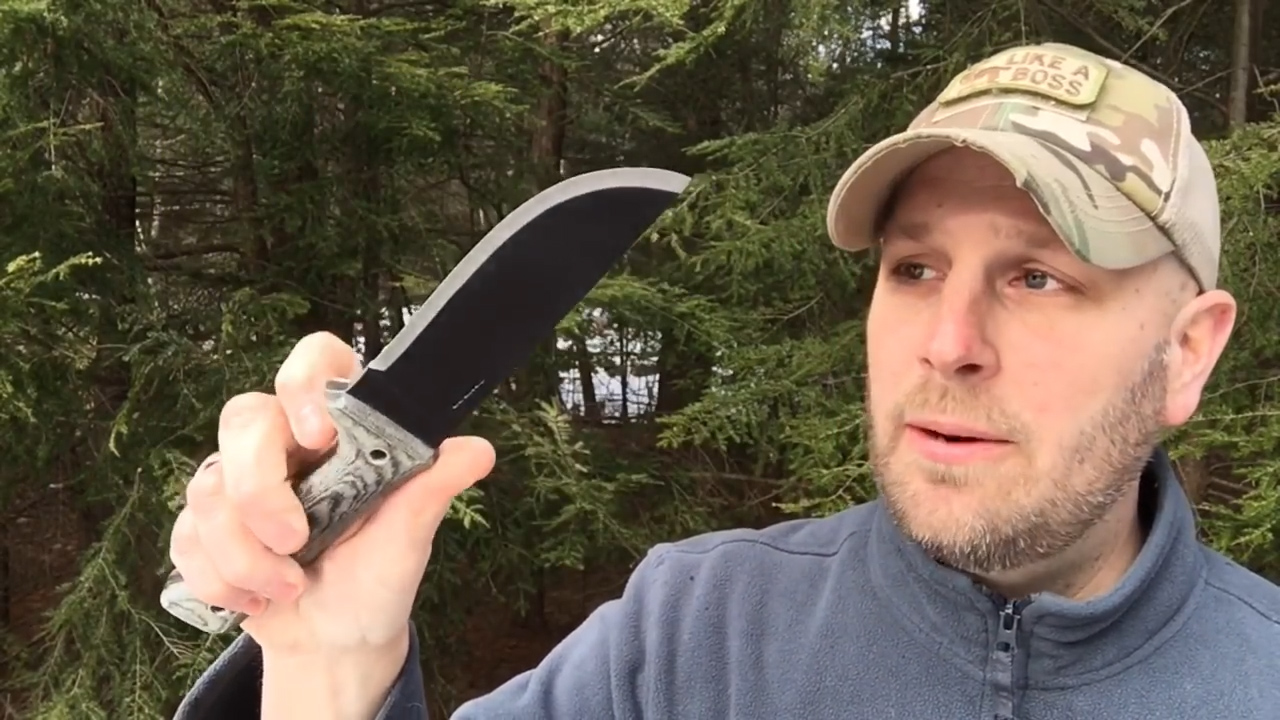knife: (245, 151, 707, 542)
